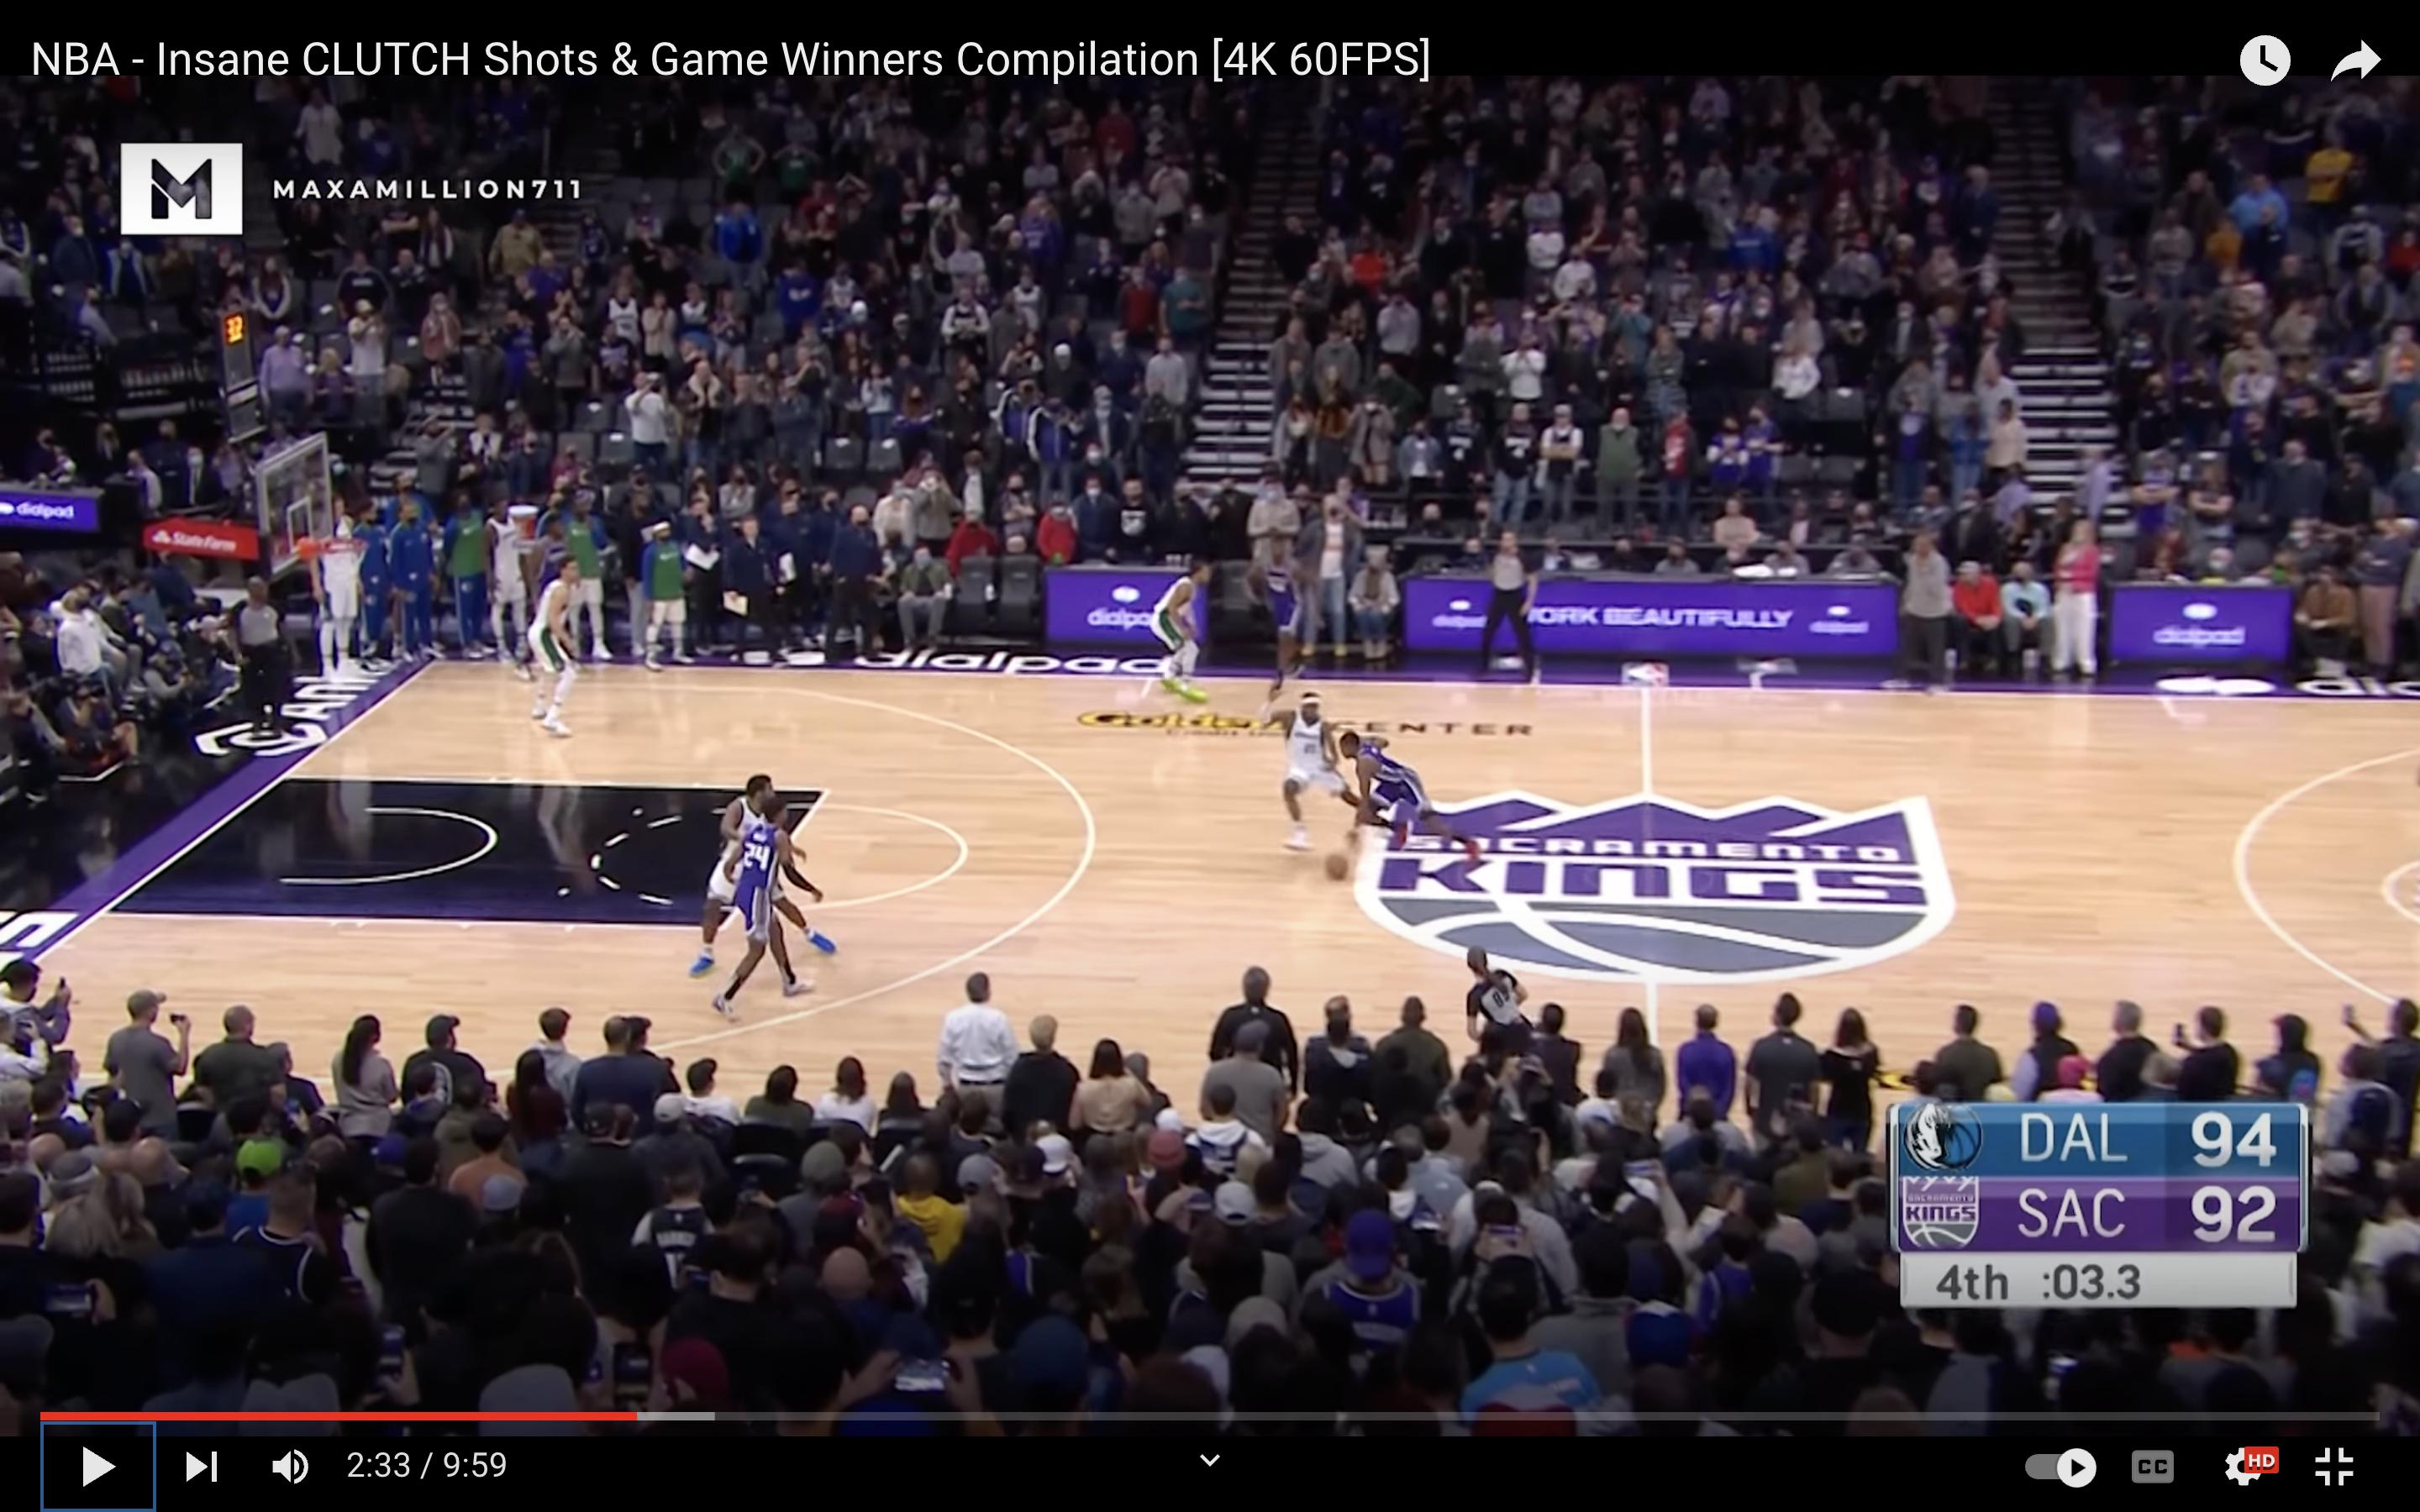Backboard: (259, 433, 334, 580)
Ball: (1325, 854, 1349, 879)
Basket: (314, 536, 371, 596)
Dribble: (1327, 874, 1349, 885)
Person: (712, 798, 812, 1026), (1251, 690, 1383, 856), (1336, 726, 1485, 867), (685, 769, 781, 980), (516, 554, 584, 737), (1242, 533, 1306, 713), (1148, 559, 1218, 700), (520, 518, 573, 688), (1458, 944, 1537, 1055)
Referee: (224, 576, 306, 743), (1470, 530, 1544, 686)
Shot Clock: (207, 312, 276, 444)
